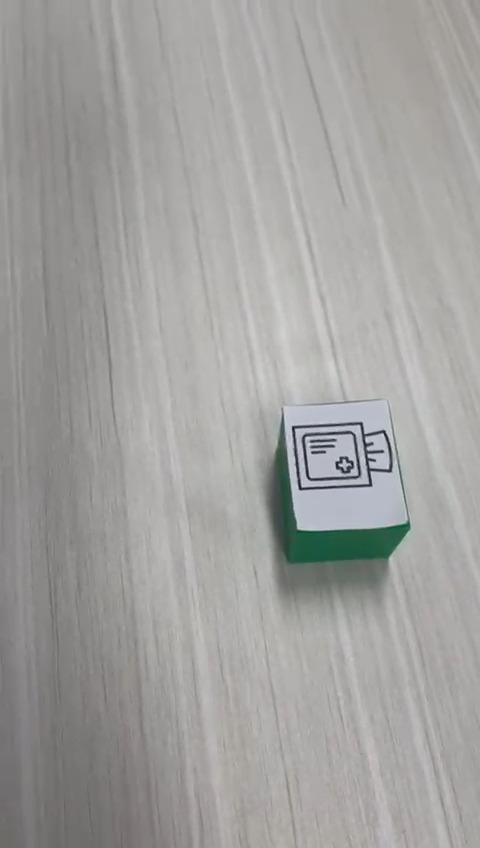Gauze: (275, 397, 411, 563)
